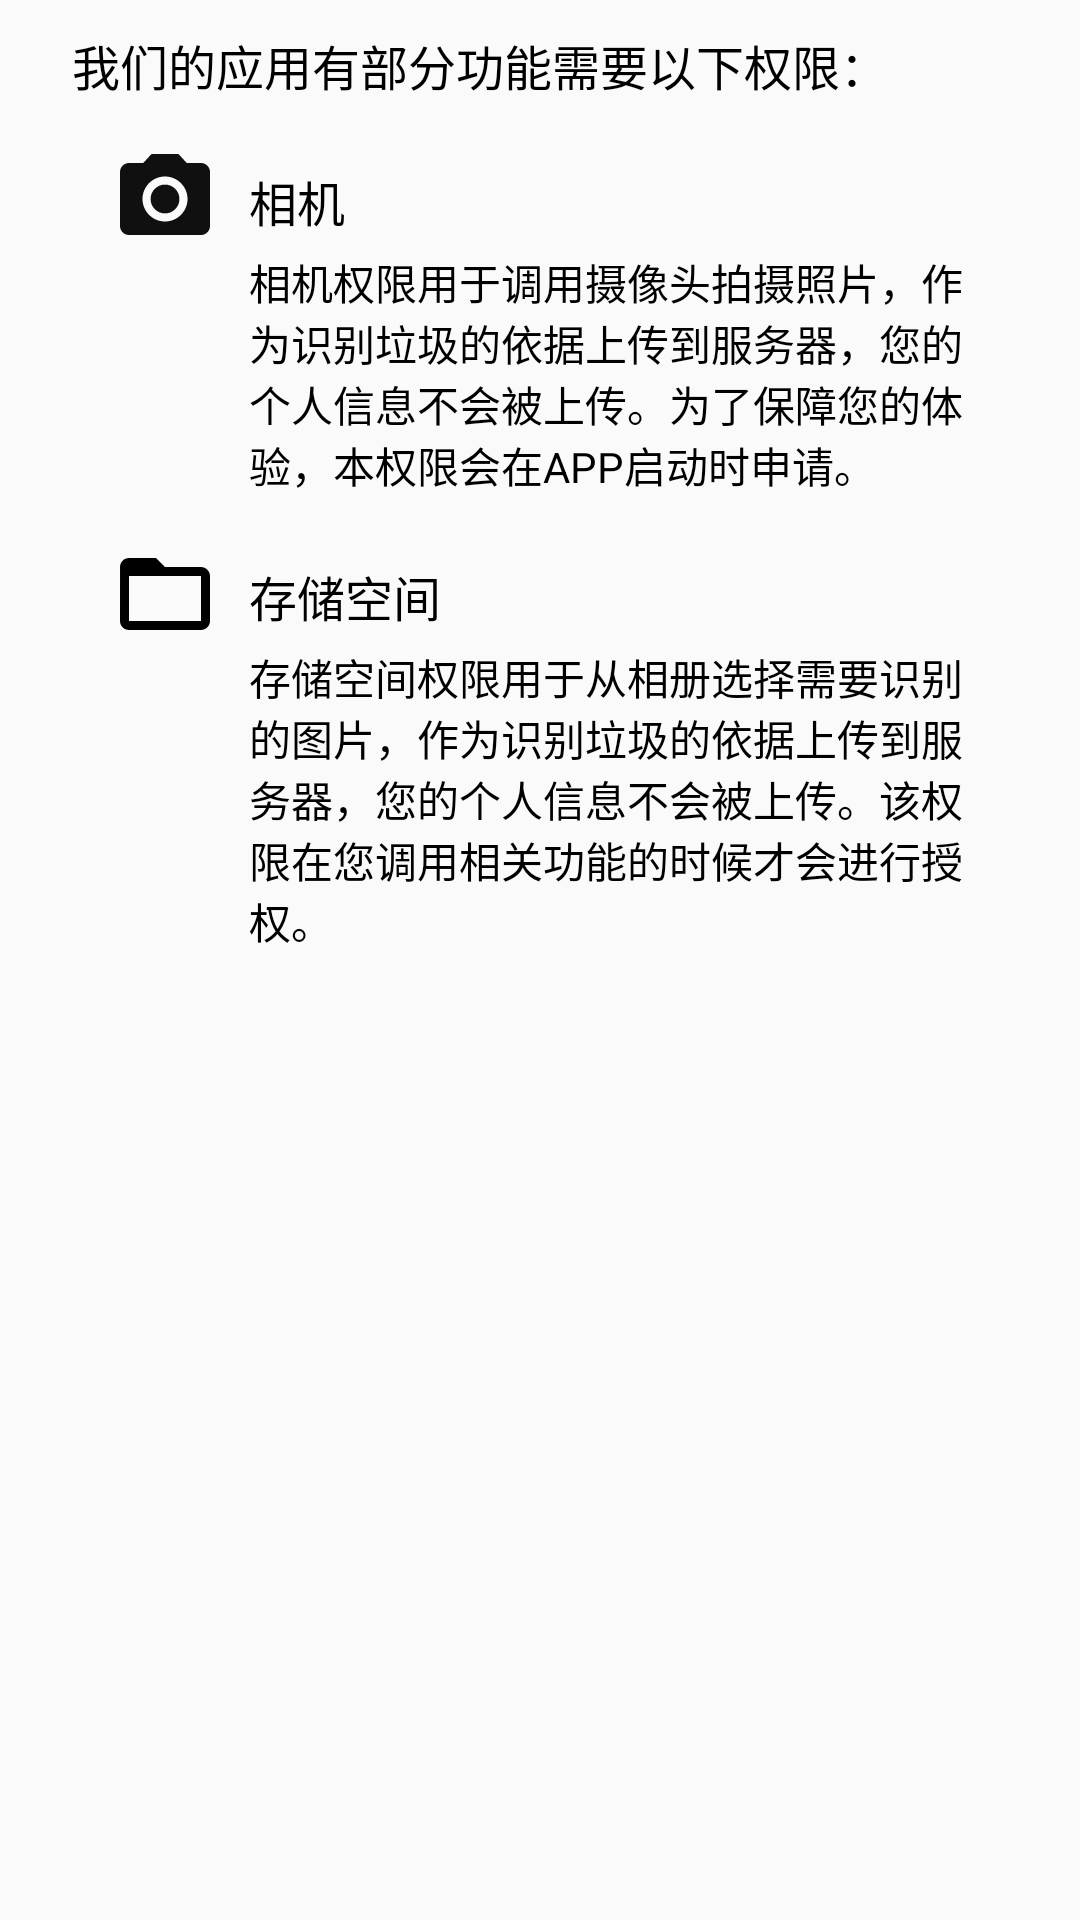

Screen size 1080w x 1920h. Icon name, then its box in pixels as [left=x1, top=y1, right=x2, bottom=y2]:
photo camera: [left=120, top=154, right=210, bottom=235]
